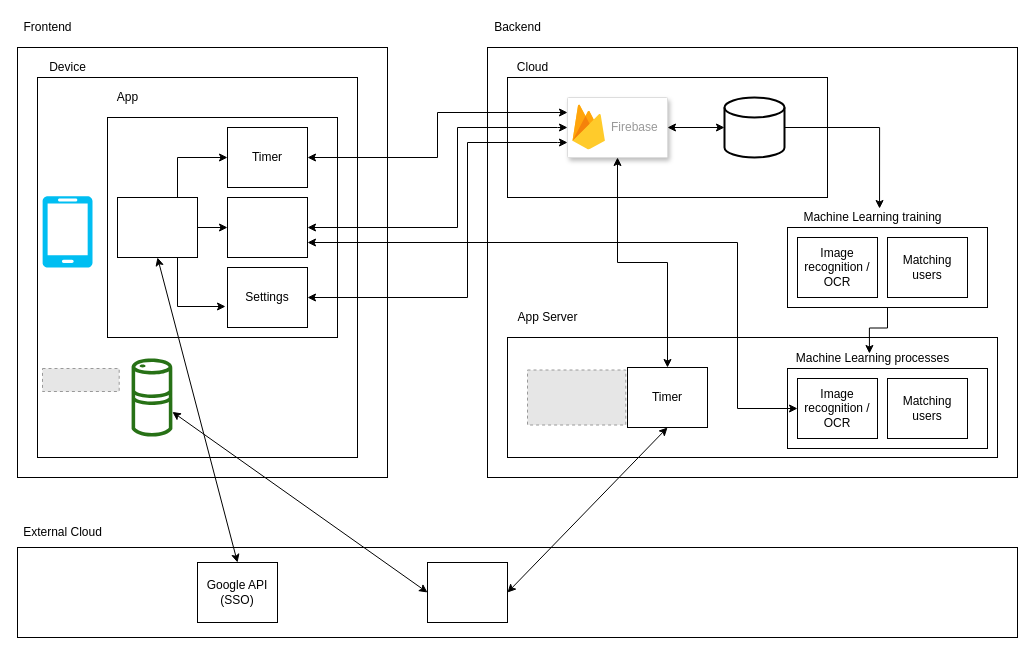
The diagram is 1035 pixels wide and 655 high, and some of its shapes have lost their labels. Grey dashed boxes stand in for pictures. The centre of each missing label's shape, as x and y in pixels:
"Login" belongs at pixel 157 227.
"Notes" belongs at pixel 267 227.
"NUGU API" belongs at pixel 467 592.
